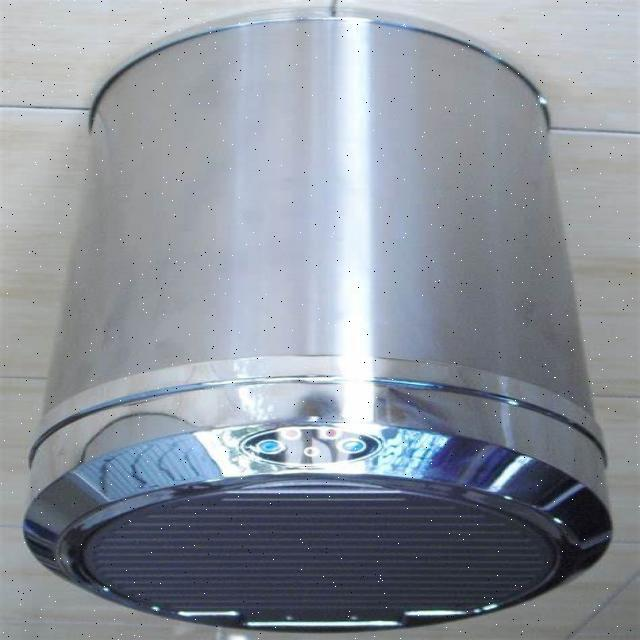garbage container: (10, 9, 630, 635)
